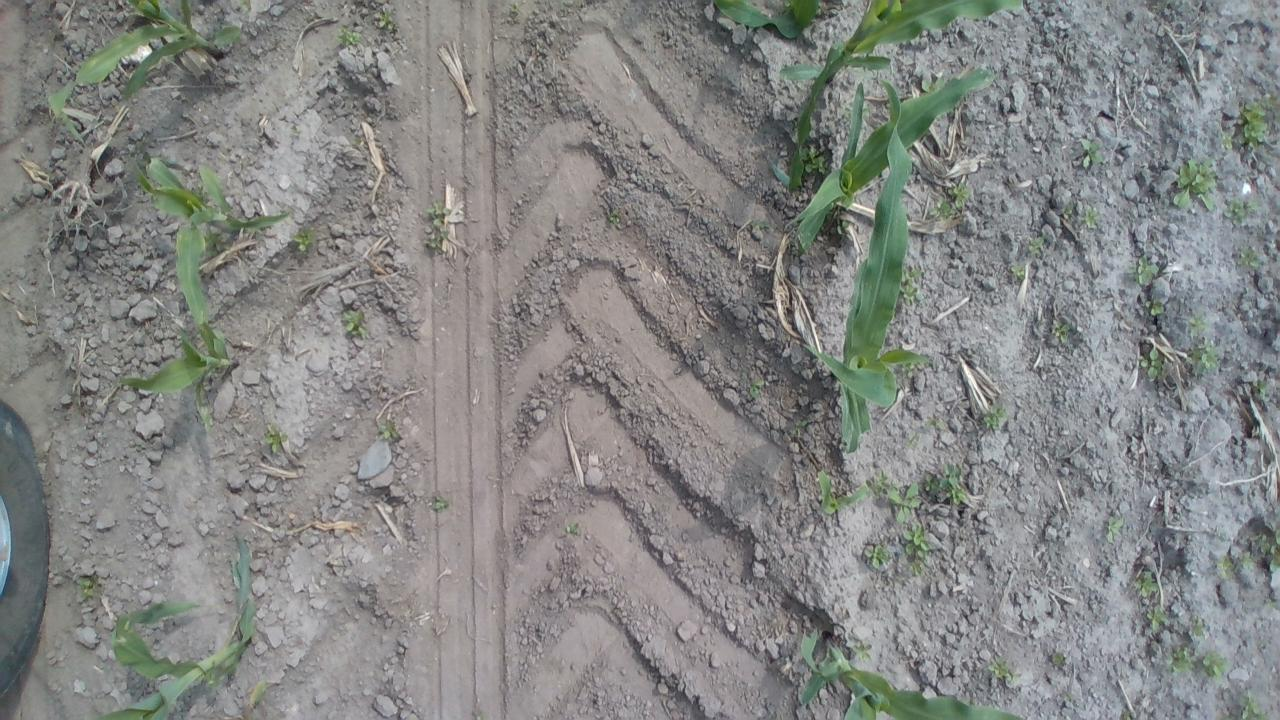Maize: (798, 83, 942, 452), (789, 61, 1003, 260), (82, 527, 275, 720), (779, 0, 1033, 142), (35, 0, 244, 146), (129, 150, 295, 324), (791, 625, 1036, 720), (125, 316, 248, 440), (708, 0, 847, 33), (806, 468, 882, 518)
Weeds: (1168, 154, 1219, 213), (1235, 98, 1280, 152), (927, 461, 974, 509), (900, 524, 939, 576), (422, 197, 454, 254), (1251, 517, 1280, 572), (887, 483, 924, 521), (981, 654, 1024, 685), (1183, 340, 1220, 375), (898, 264, 926, 308), (862, 540, 896, 576), (342, 302, 370, 342), (75, 572, 106, 608), (1144, 602, 1172, 638), (1214, 552, 1254, 577), (1220, 195, 1256, 222), (926, 198, 959, 227), (1132, 256, 1162, 287), (1102, 513, 1128, 548), (1234, 244, 1265, 272), (126, 140, 153, 172), (1167, 646, 1195, 676), (1076, 138, 1104, 168), (980, 404, 1006, 436), (1204, 652, 1232, 681), (1134, 572, 1162, 601), (1140, 350, 1168, 379), (603, 200, 627, 233), (262, 424, 290, 452), (831, 213, 860, 240), (804, 144, 830, 174), (293, 229, 321, 256), (740, 371, 766, 400), (335, 26, 363, 52), (376, 6, 401, 35), (1187, 616, 1215, 641), (850, 640, 879, 664), (1238, 691, 1262, 720), (1050, 318, 1076, 344), (430, 491, 456, 515), (1004, 258, 1029, 282), (948, 182, 972, 207), (559, 518, 588, 538), (1144, 294, 1166, 318), (791, 413, 812, 438), (1023, 238, 1044, 262), (868, 471, 887, 496), (380, 418, 398, 443), (746, 218, 774, 234), (1058, 200, 1078, 222), (924, 414, 948, 432), (1256, 376, 1272, 403), (1082, 206, 1100, 230), (1188, 313, 1206, 336), (1214, 128, 1234, 148), (1057, 686, 1077, 704), (903, 432, 923, 450), (504, 1, 524, 19), (899, 359, 916, 378), (1048, 650, 1068, 666)
